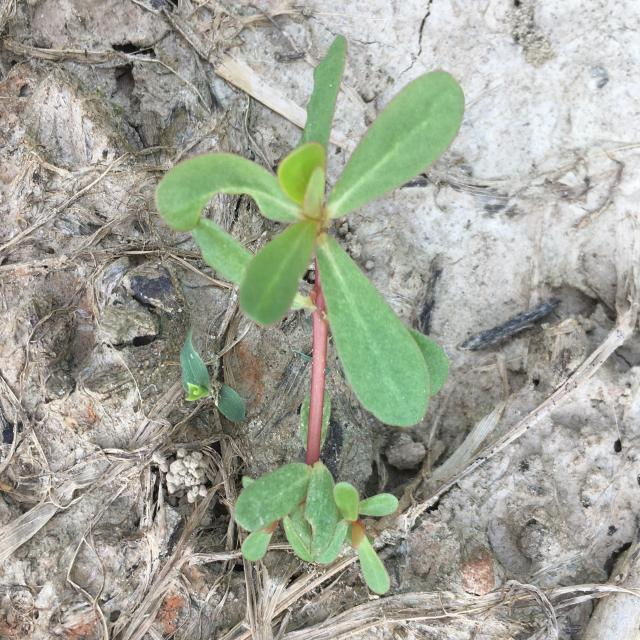Purslane: (155, 31, 467, 596)
